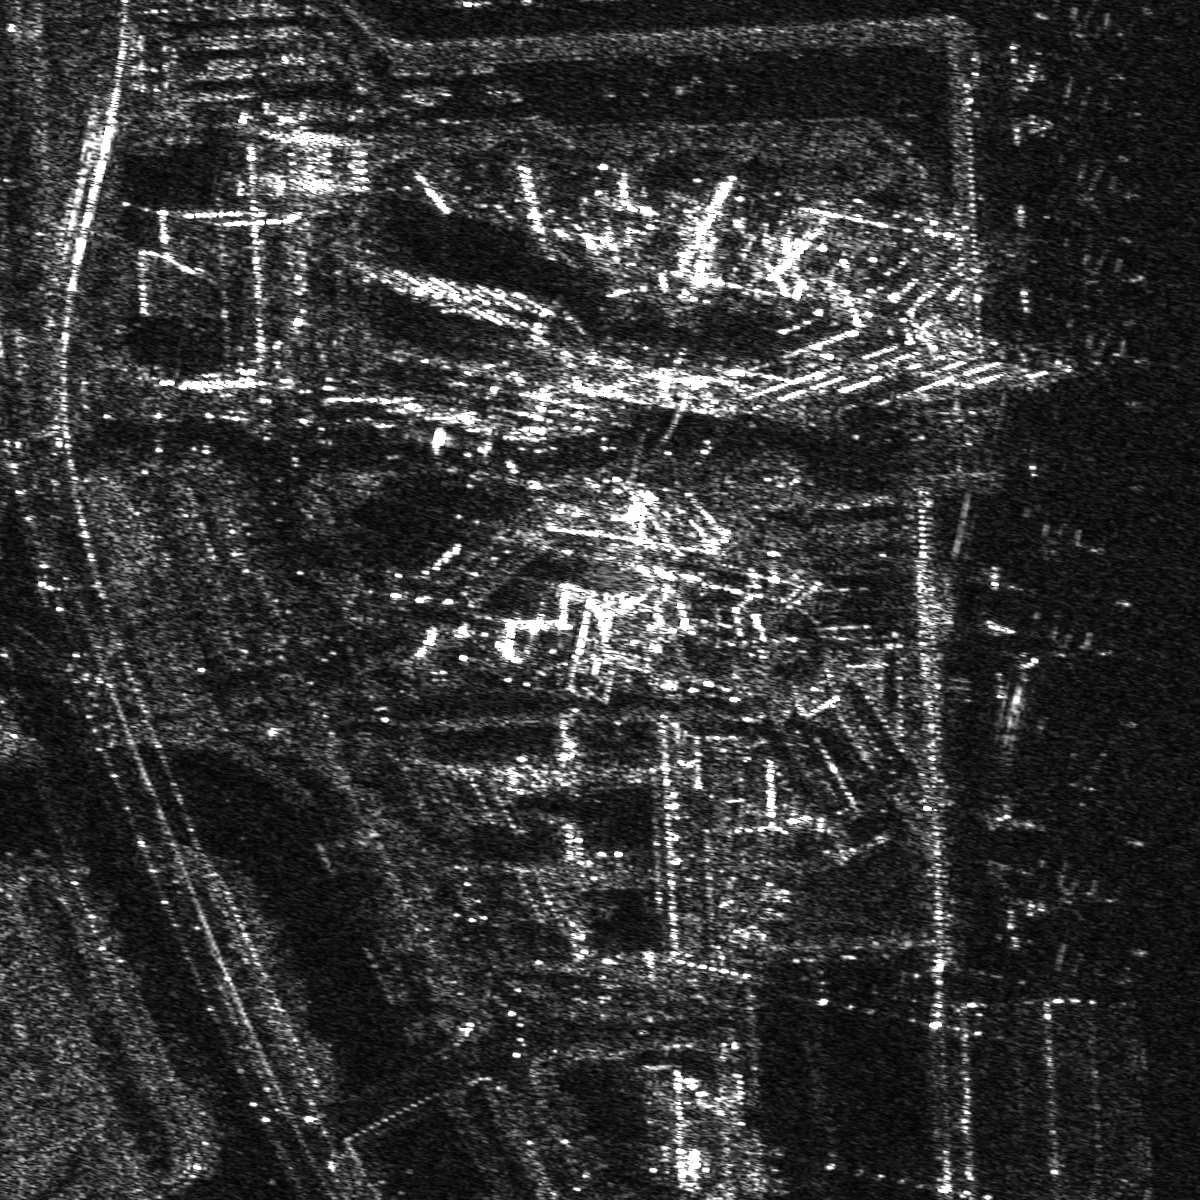A220: (1048, 162, 1149, 235), (1086, 336, 1184, 409), (1075, 248, 1158, 326), (1062, 1, 1144, 79), (1021, 623, 1119, 688), (1027, 865, 1121, 931)
